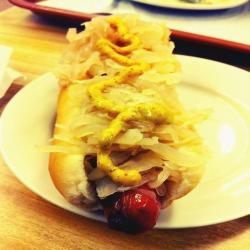hotdog: (46, 13, 208, 237)
